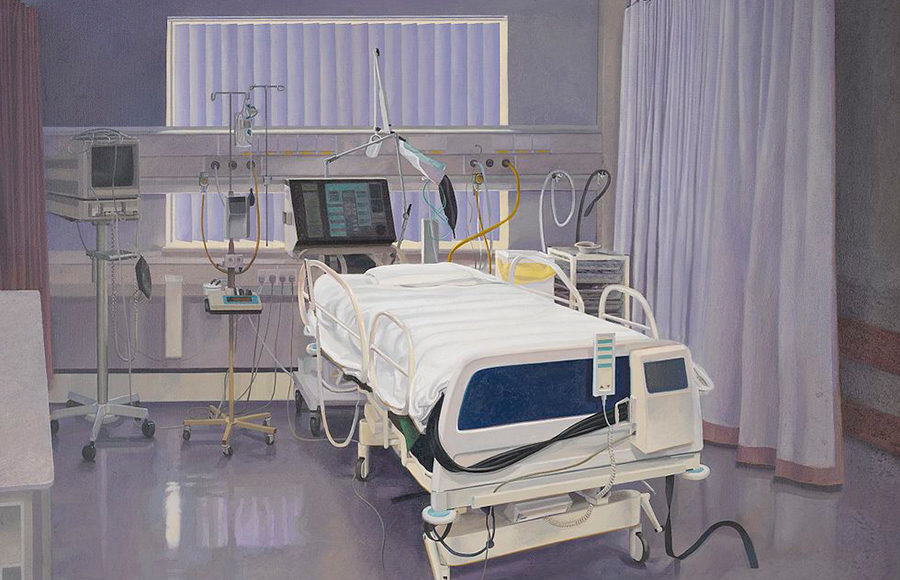bedrail: (290, 260, 366, 371), (368, 311, 418, 409), (585, 283, 662, 332), (504, 252, 581, 301)
bedside_monitor: (279, 177, 395, 248), (77, 139, 143, 186)
curtain: (615, 1, 877, 480), (161, 1, 510, 132), (2, 1, 58, 382)
foot_board: (445, 341, 705, 459)
hospital_bed: (282, 258, 714, 580)
iv_pole: (195, 91, 270, 450), (247, 84, 284, 246)
sequential_compression: (486, 338, 700, 477)
syringe_pump: (204, 287, 264, 315)
